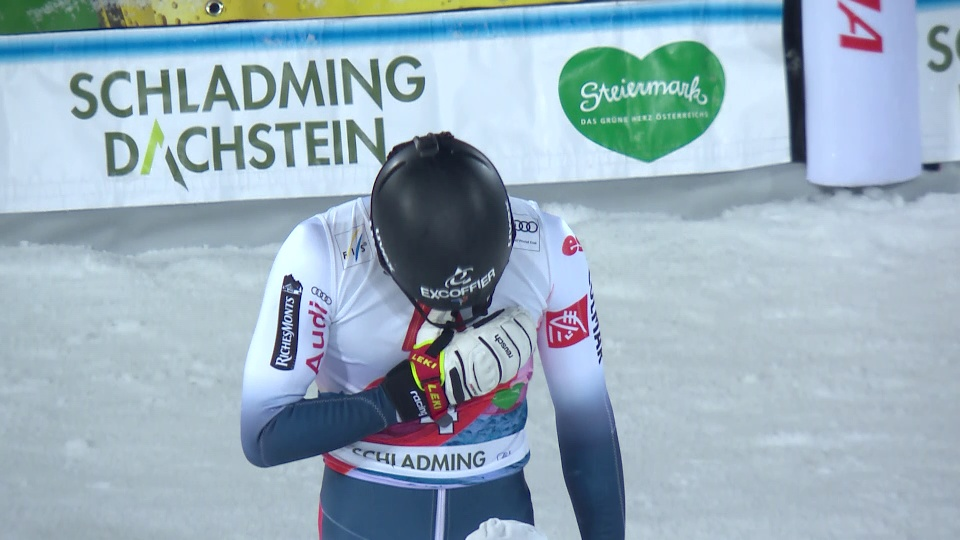audi: (513, 219, 541, 238)
schladming: (67, 52, 425, 177), (356, 440, 490, 473)
steiermark: (568, 63, 729, 155)
